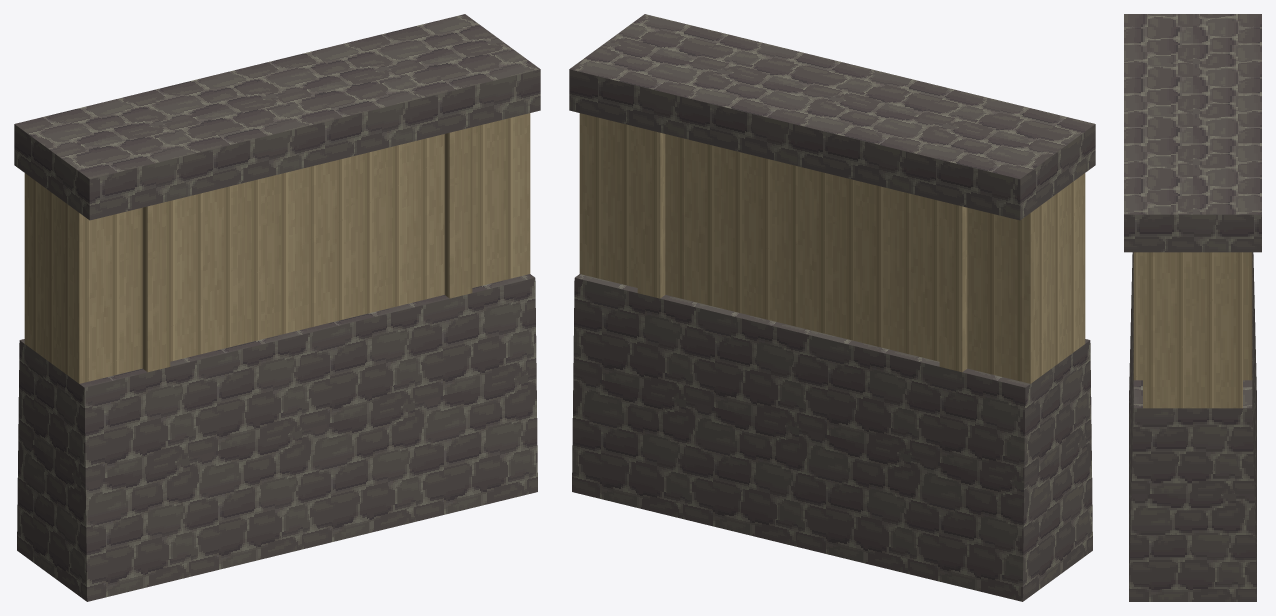
Rendered from wall_straight_pale.glb.
The picture shows the model from 3 angles, left to right: view 1: azimuth 30°, elevation 25°; view 2: azimuth 150°, elevation 25°; view 3: azimuth 270°, elevation 25°; orthographic projection. The views are drawn at different scales.
Visible parts, largest first — view 1: wall_straight_pale; view 2: wall_straight_pale; view 3: wall_straight_pale.
Boxes of the visible parts, x1,y1,x2,y2 form: wall_straight_pale: (14, 14, 540, 601); wall_straight_pale: (569, 14, 1095, 601); wall_straight_pale: (1124, 14, 1261, 601).
Size of the model in its own units: 4 by 3.6 by 1.16.
Materials: 2 (2 with a texture image).
